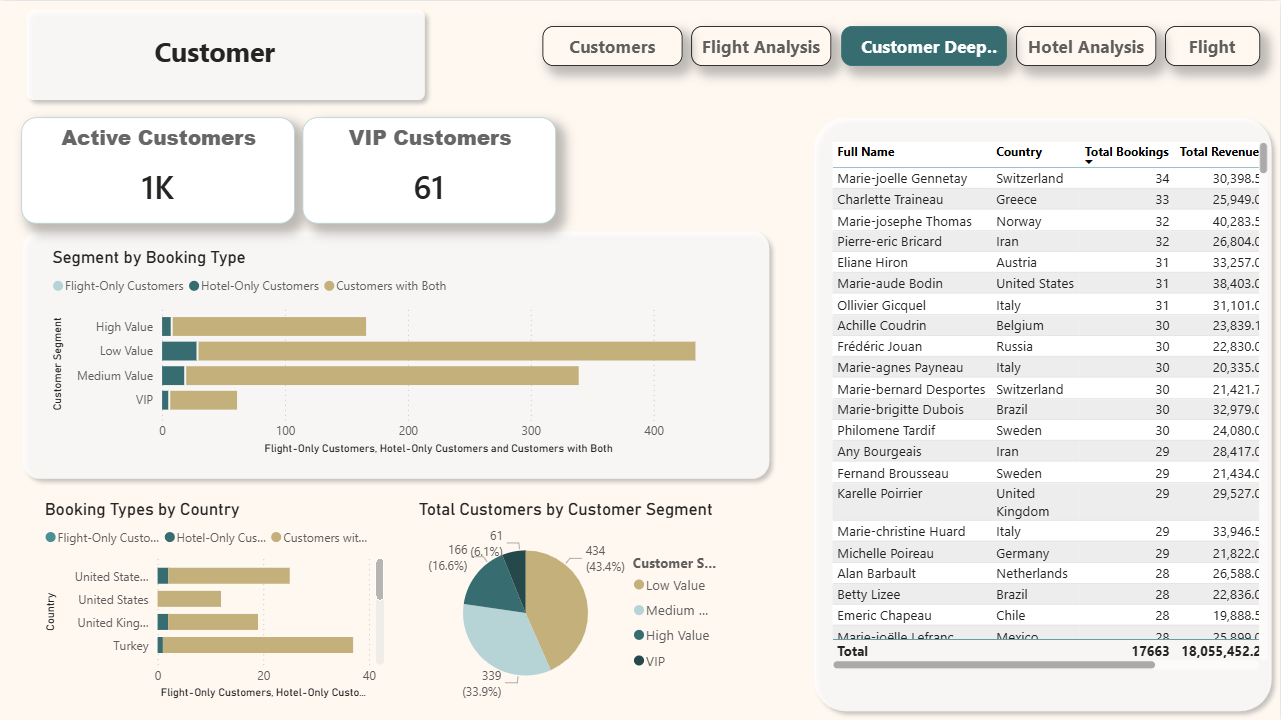

The page's visual inventory and layout, read from the dashboard file:
{"tool":"powerbi","page":{"name":"Customer deep dive","canvas":[1280,720],"ordinal":2},"visuals":[{"type":"shape","box":[13.6,221.8,764.5,265.5],"z":0},{"type":"shape","box":[804.4,108,475.6,611.8],"z":1000},{"type":"shape","box":[17.5,0,416.3,108],"z":2000},{"type":"textbox","box":[16.5,27.2,396.8,54.5],"z":3000},{"type":"cardVisual","title":"Active Customers","fields":{"Data":["_Measures.Active Customers"]},"box":[21.4,115.7,273.3,106],"z":4000},{"type":"cardVisual","title":"VIP Customers","fields":{"Data":["_Measures.VIP Customers"]},"box":[302.5,115.7,253.9,106],"z":5000},{"type":"pieChart","fields":{"Category":["Dim_Customer.Customer Segment"],"Y":["_Measures.Total Customers"]},"box":[413.4,498,317.1,210.1],"z":6000},{"type":"tableEx","fields":{"Values":["Dim_Customer.Full Name","Dim_Customer.Country","_Measures.Total Bookings","_Measures.Total Revenue","_Measures.Customer Segment"]},"box":[826.7,136.2,446.4,536.9],"z":7000},{"type":"barChart","title":"Segment by Booking Type","fields":{"Category":["Dim_Customer.Customer Segment"],"Y":["_Measures.Flight-Only Customers","_Measures.Hotel-Only Customers","_Measures.Customers with Both"]},"box":[47.7,246.1,682.8,212],"z":8000},{"type":"barChart","title":"Booking Types by Country","fields":{"Category":["Dim_Customer.Country"],"Y":["_Measures.Flight-Only Customers","_Measures.Hotel-Only Customers","_Measures.Customers with Both"]},"box":[39.9,498,349.2,205.2],"z":10000},{"type":"actionButton","title":"Customers","box":[542.6,25.4,140.1,39.9],"z":11000},{"type":"actionButton","title":"Flight Analysis","box":[690.7,25.4,140.1,39.9],"z":12000},{"type":"actionButton","title":"Customer deep dive","box":[841.4,25.4,165.8,39.9],"z":13000},{"type":"actionButton","title":"Hotel Analysis","box":[1016.1,25.4,140.1,39.9],"z":14000},{"type":"actionButton","title":"Flight ","box":[1165.1,25.4,94.9,39.9],"z":15000}]}

Visuals, with their boxes in screenshot pixels (x1, y1, x2, y2), scaled from the page's 1280x720 canvas onto the 1281x720 screenshot:
shape: 14, 222, 779, 487
shape: 805, 108, 1280, 719
shape: 18, 0, 434, 108
textbox: 17, 27, 414, 82
"Active Customers" cardVisual: 21, 116, 295, 222
"VIP Customers" cardVisual: 303, 116, 557, 222
pieChart - Dim_Customer.Customer Segment x _Measures.Total Customers: 414, 498, 731, 708
tableEx - Dim_Customer.Full Name x Dim_Customer.Country: 827, 136, 1274, 673
"Segment by Booking Type" barChart: 48, 246, 731, 458
"Booking Types by Country" barChart: 40, 498, 389, 703
"Customers" actionButton: 543, 25, 683, 65
"Flight Analysis" actionButton: 691, 25, 831, 65
"Customer deep dive" actionButton: 842, 25, 1008, 65
"Hotel Analysis" actionButton: 1017, 25, 1157, 65
"Flight " actionButton: 1166, 25, 1261, 65
